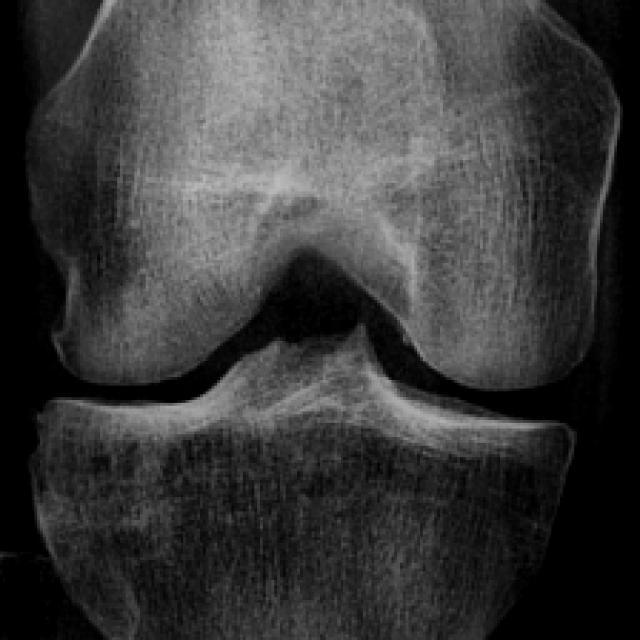femur: (29, 0, 625, 394)
tibia: (31, 329, 571, 640)
